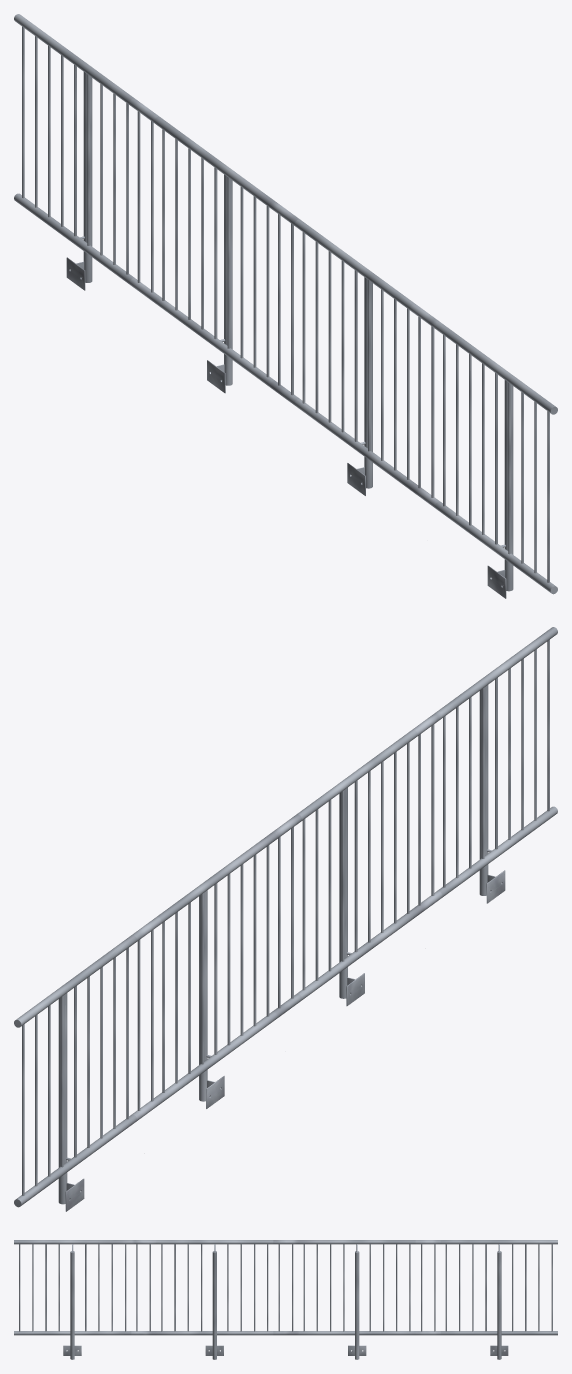
The model's file is gelaender-500.gltf.
3 renders of one model, top to bottom at view 1: azimuth 30°, elevation 25°; view 2: azimuth 150°, elevation 25°; view 3: azimuth 270°, elevation 25°, orthographic. The views are drawn at different scales.
Visible parts, largest first — view 1: SK0036_Geländer-500.001; view 2: SK0036_Geländer-500.001; view 3: SK0036_Geländer-500.001.
Part boxes in pixels (left/top/right/bottom): SK0036_Geländer-500.001: left=14, top=14, right=557, bottom=598; SK0036_Geländer-500.001: left=14, top=627, right=557, bottom=1211; SK0036_Geländer-500.001: left=14, top=1240, right=557, bottom=1359.
Size of the model in its own units: 0.102 by 1.12 by 4.78.
2 materials, 2 textured.
